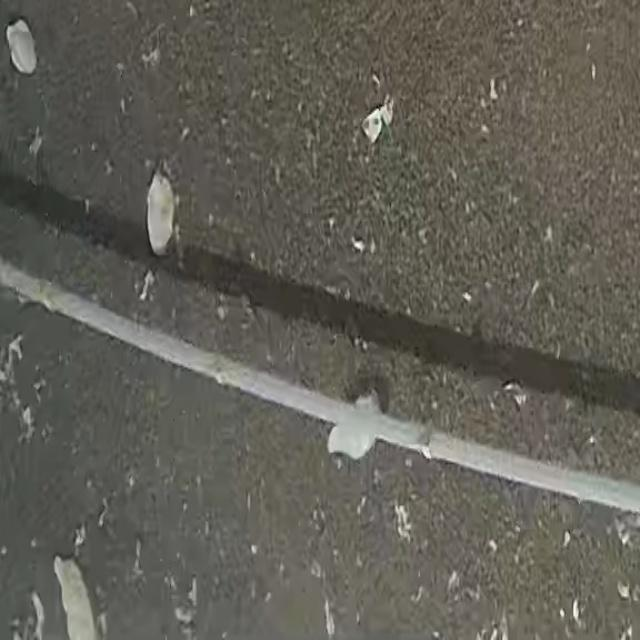chicken: (322, 386, 382, 466), (142, 165, 179, 259), (3, 16, 41, 78)
